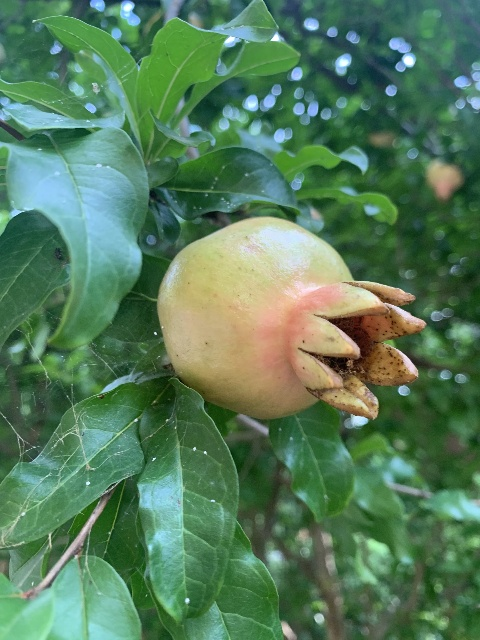mid-growth: (157, 217, 425, 425), (425, 160, 464, 202)
